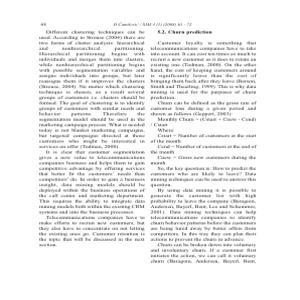text: (149, 28, 263, 266), (32, 30, 147, 251)
